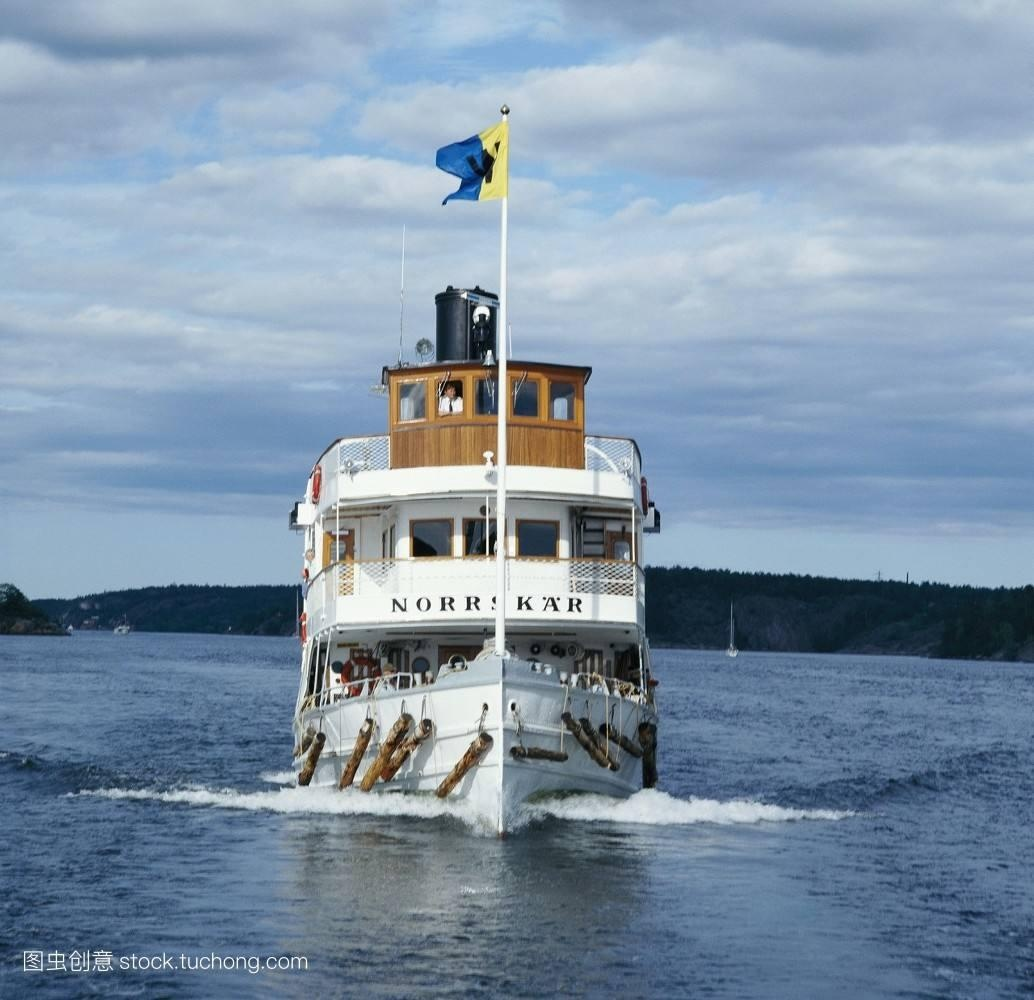otherboat: (283, 213, 661, 814)
